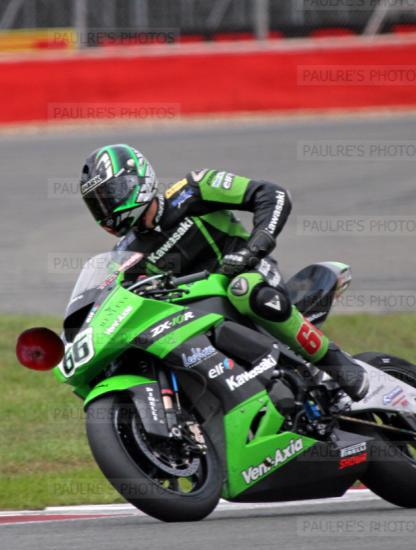Mango: (15, 324, 66, 375)
